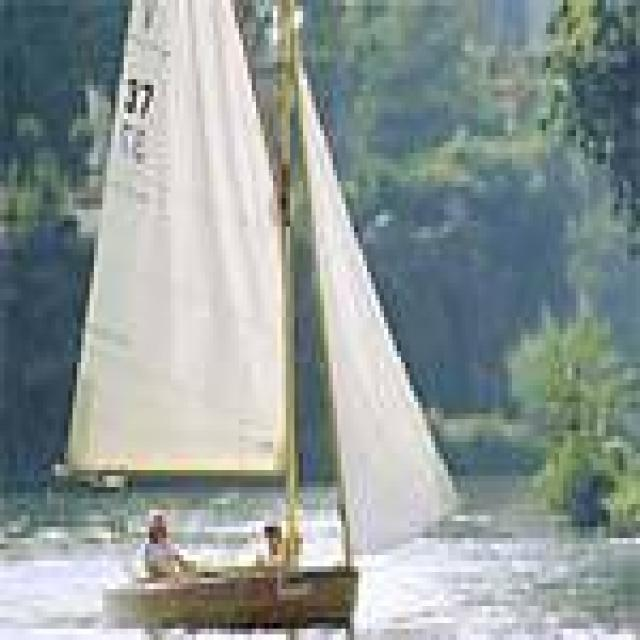Ship: (65, 12, 459, 630)
